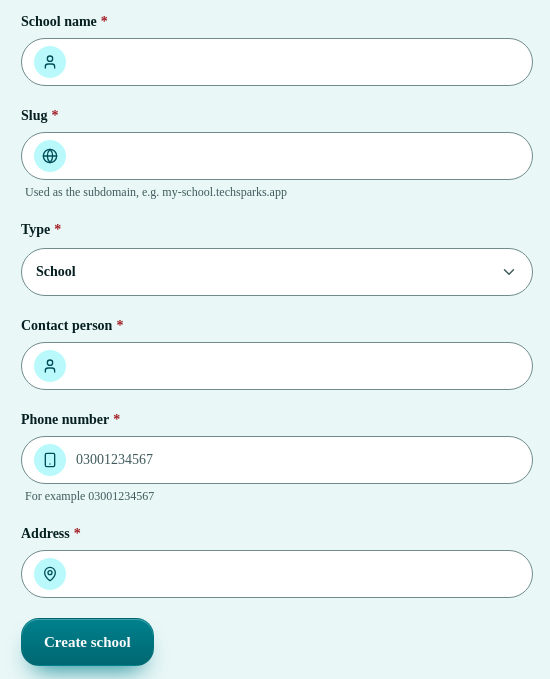
Test: CreateSchoolForm validation › refuses an empty form, naming each missing field
The image size is (550, 679).
(page scrolled)
Step 1. Click the button "Create school" → {"x": 87, "y": 642}, box left=21, top=618, right=154, bottom=666
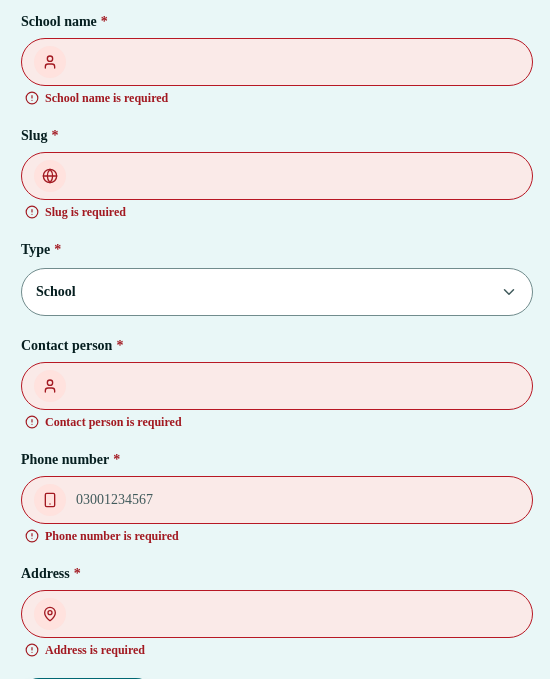
Now the text "School name is required" is shown, box left=25, top=91, right=168, bottom=105
Now the text "Slug is required" is shown, box left=25, top=205, right=126, bottom=219
Now the text "Contact person is required" is shown, box left=25, top=415, right=182, bottom=429
